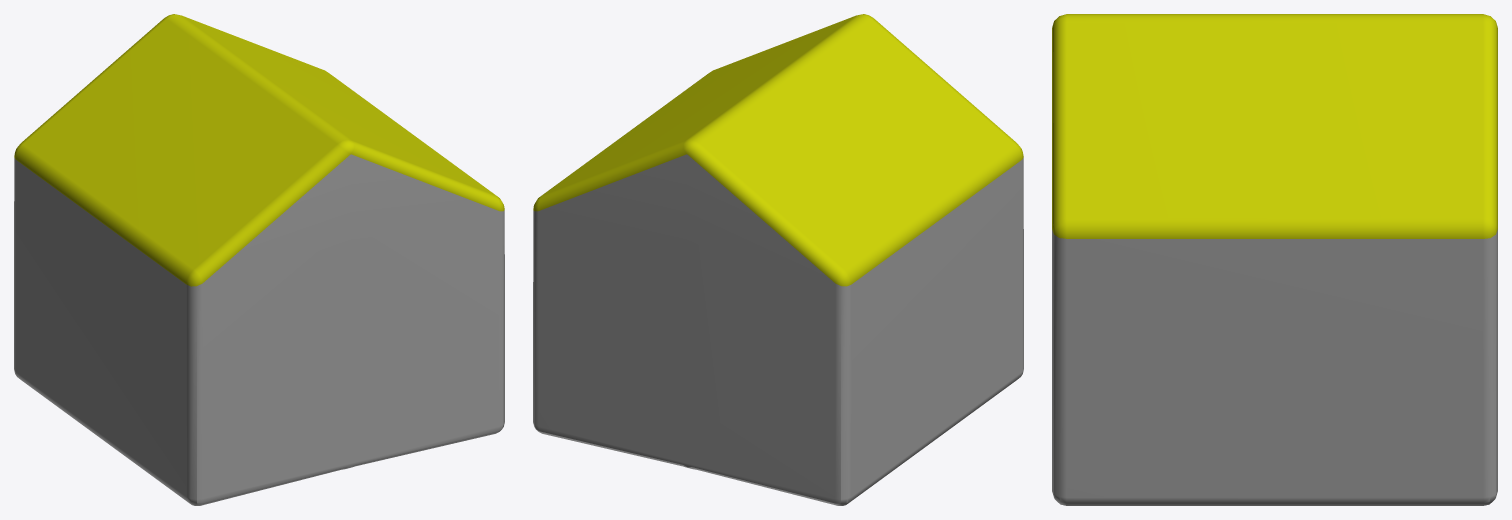
File: House1.fbx
3 views of the same model, side by side, from view 1: azimuth 30°, elevation 25°; view 2: azimuth 150°, elevation 25°; view 3: azimuth 270°, elevation 25° (orthographic). The views are drawn at different scales.
Visible parts, largest first — view 1: House1_Prefab; view 2: House1_Prefab; view 3: House1_Prefab.
Boxes of the visible parts, <box> form: House1_Prefab: <box>14,14,504,505</box>; House1_Prefab: <box>533,14,1023,505</box>; House1_Prefab: <box>1052,14,1497,505</box>.
Bounding box in the file's own units: 0.0183 × 0.0182 × 0.0183.
